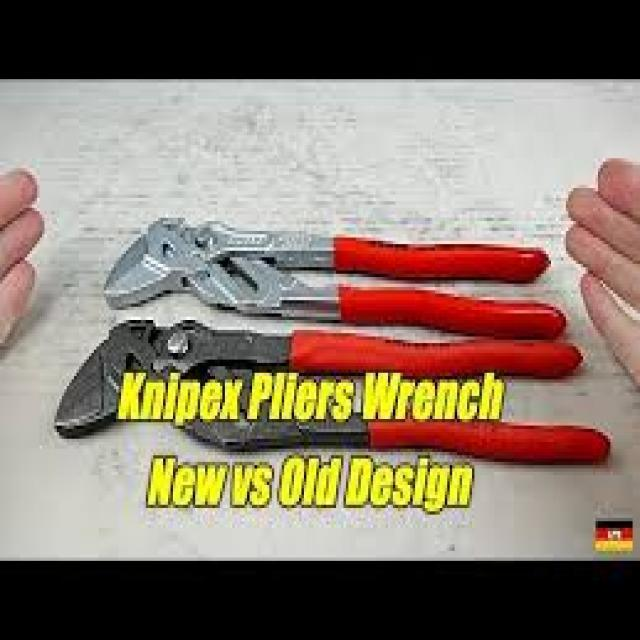pliers: (66, 316, 622, 470), (89, 201, 576, 350)
